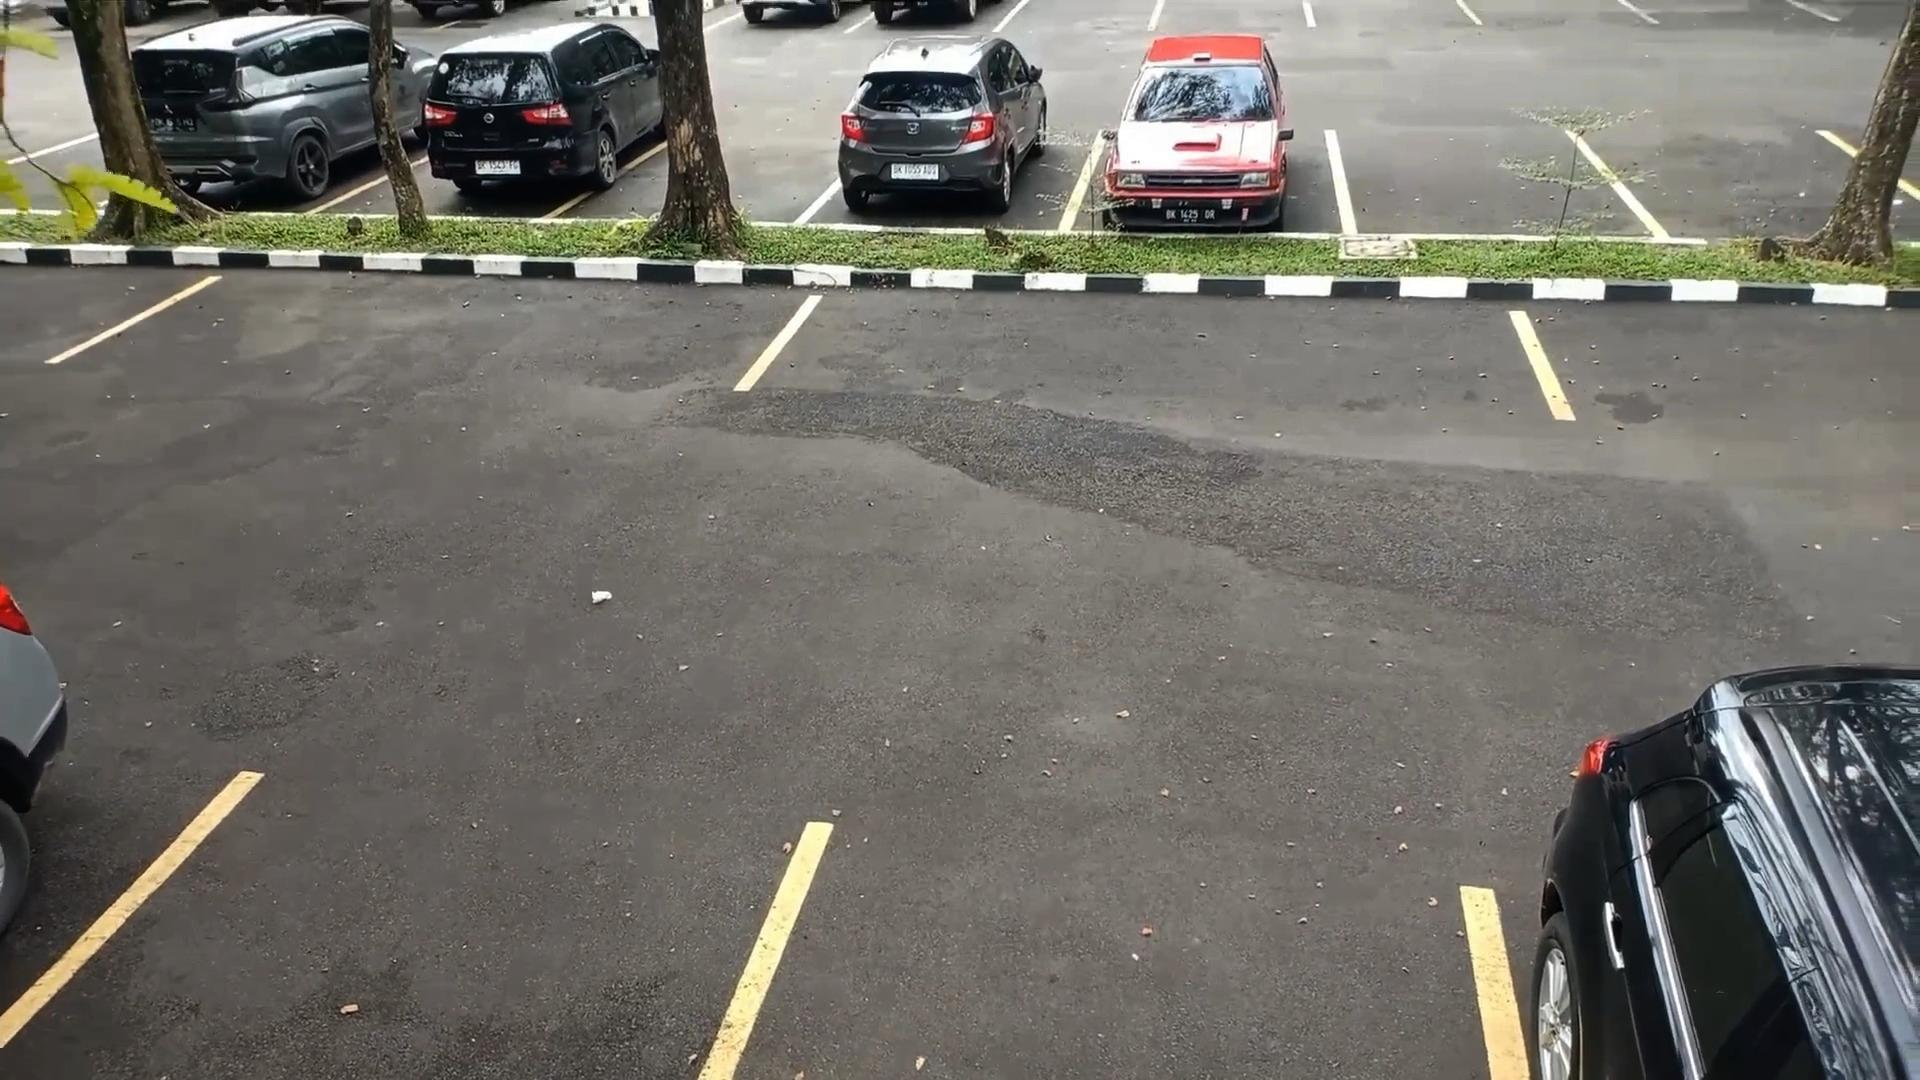empty: (0, 779, 822, 1080), (706, 826, 1519, 1080), (783, 258, 1562, 419), (121, 257, 792, 397), (1624, 118, 1918, 244), (1340, 112, 1622, 234)
occupied: (812, 65, 1086, 228), (144, 41, 392, 215), (416, 47, 662, 220), (1083, 68, 1342, 230)
